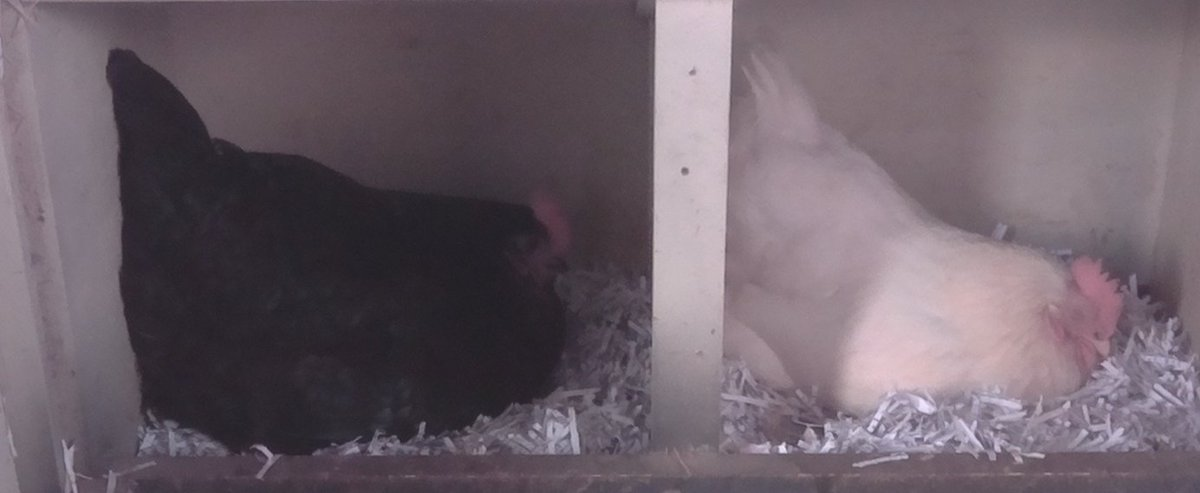hen: (108, 63, 586, 450), (730, 65, 1130, 422)
